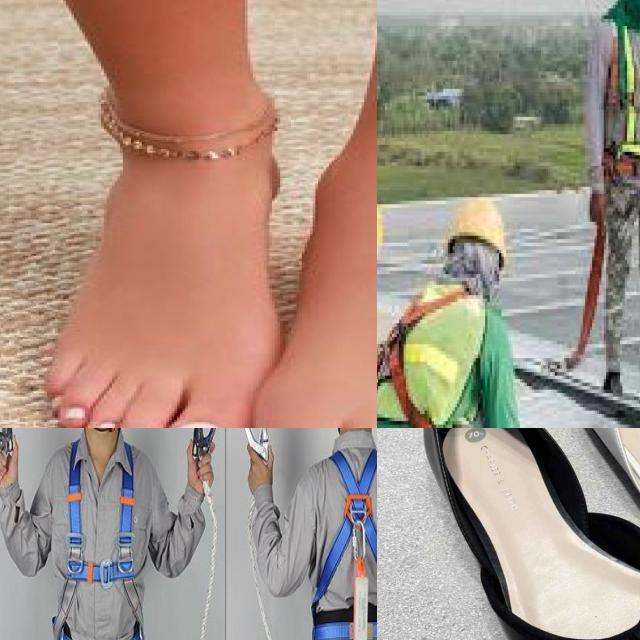Barefoots: (248, 165, 377, 428)
Harness: (47, 436, 145, 640), (316, 445, 377, 640), (389, 334, 437, 428), (192, 428, 221, 478), (237, 428, 274, 460)
Sandals: (400, 428, 640, 640), (549, 428, 640, 640)
